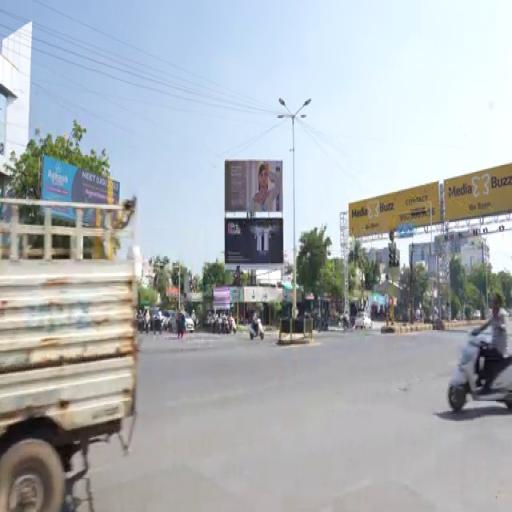Car: (355, 312, 371, 328), (164, 311, 175, 331), (184, 313, 195, 332), (473, 311, 480, 319)
